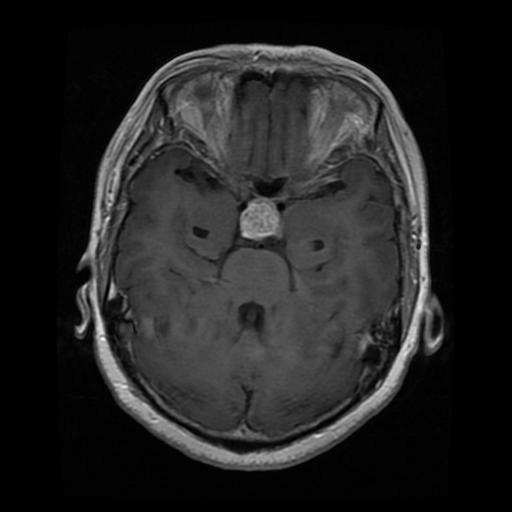Tumour-Pituitary: (236, 197, 282, 245)
